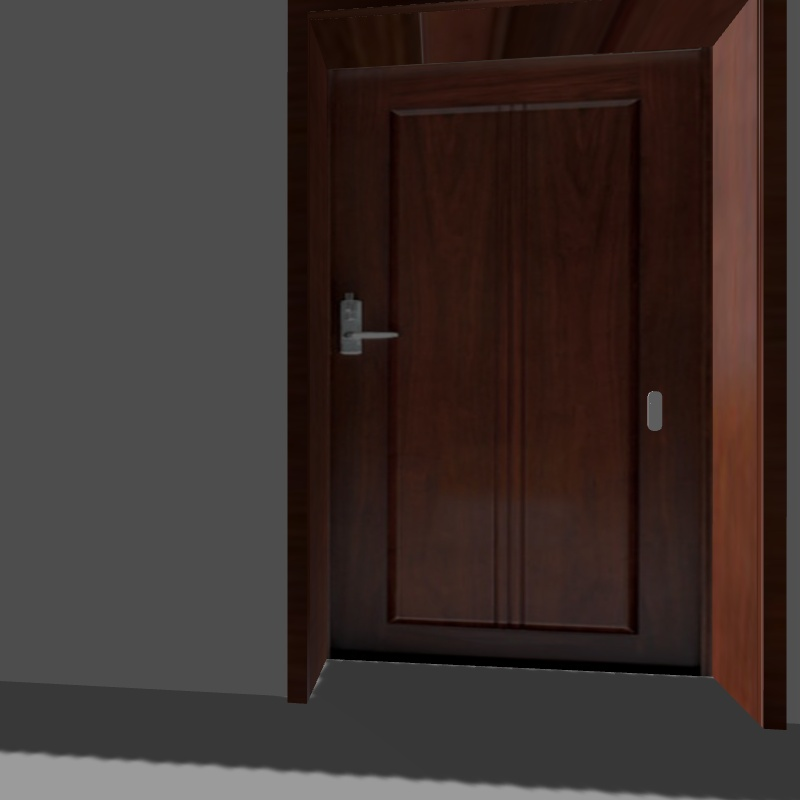handle: (332, 285, 401, 359)
